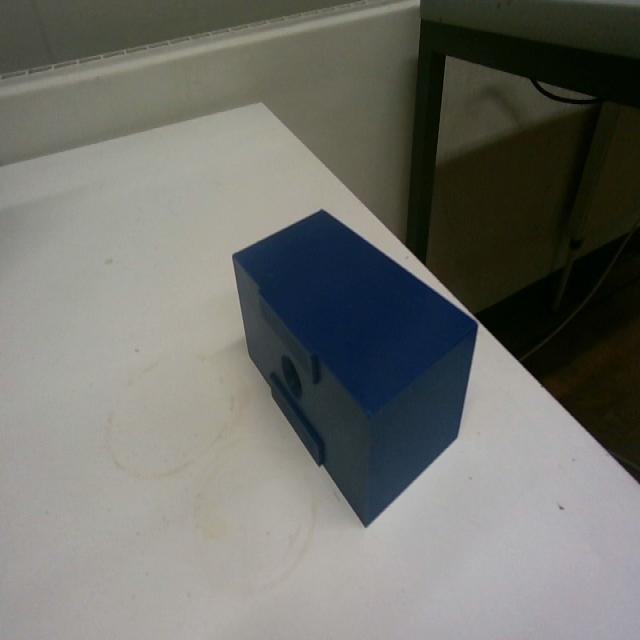Blue Cuboid: (229, 204, 480, 528)
